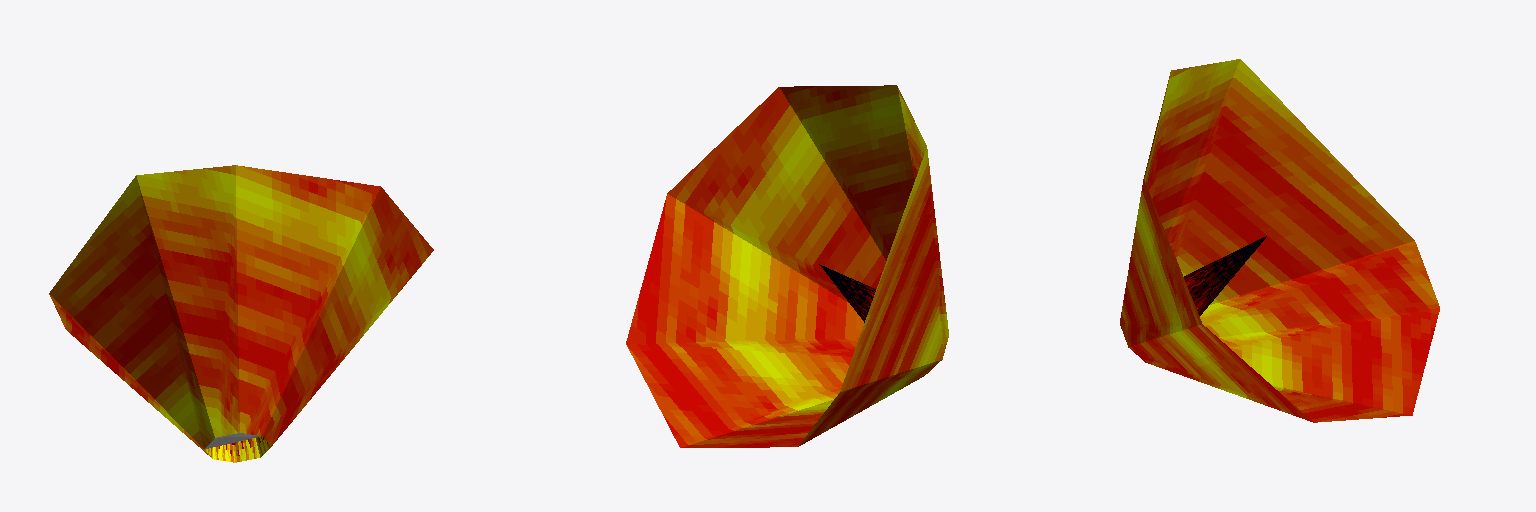
The picture shows the model from 3 angles: view 1: azimuth 30°, elevation 25°; view 2: azimuth 150°, elevation 25°; view 3: azimuth 270°, elevation 25°; orthographic projection.
Visible parts, largest first — view 1: turbo6; view 2: turbo6; view 3: turbo6.
Part boxes in pixels (x1,y1,x2,y2): turbo6: (49,165,433,462); turbo6: (626,85,948,447); turbo6: (1120,59,1439,422).
Size of the model in its own units: 1.25 by 1.27 by 1.24.
Materials: 9 (9 with a texture image).